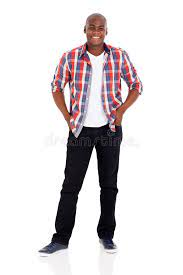person: (38, 10, 145, 264)
